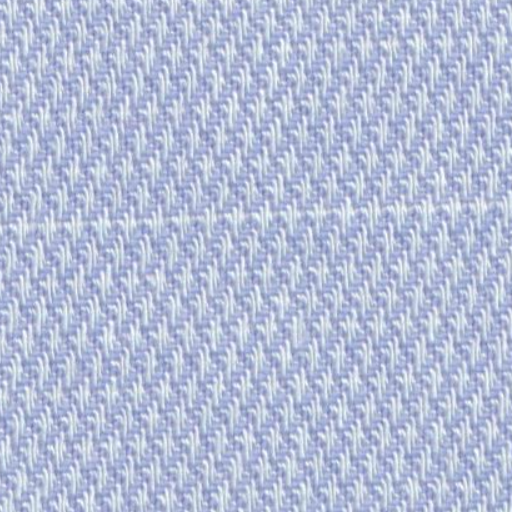TuoSha: (16, 180, 500, 262)
